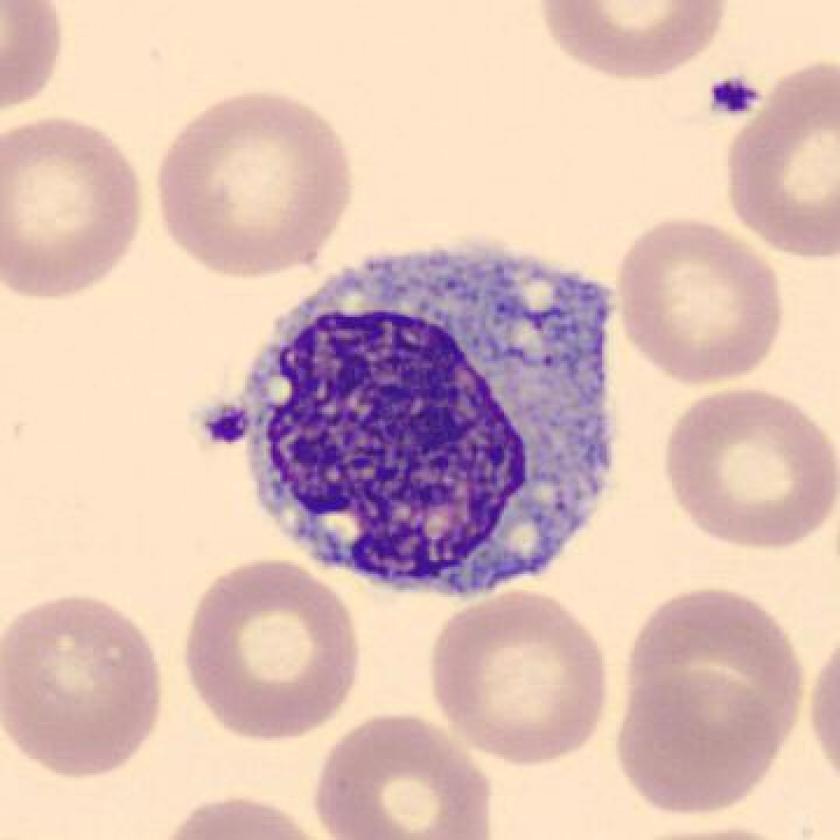monocyte: (232, 221, 640, 621)
